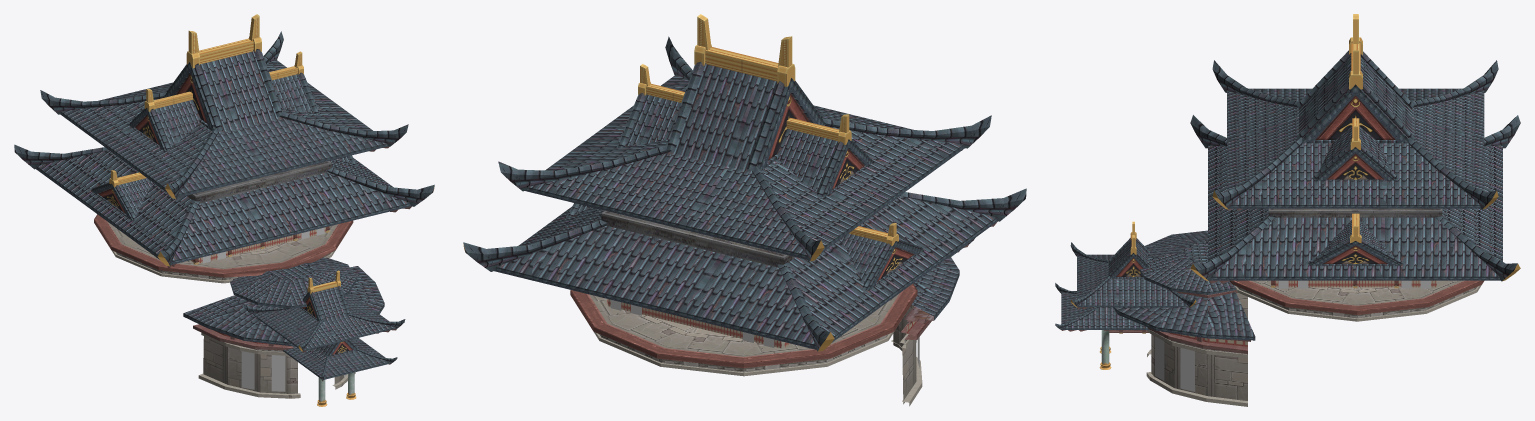
File: mod_zlc_jianzhu061_xy.FBX
The picture shows the model from 3 angles, left to right: view 1: azimuth 30°, elevation 25°; view 2: azimuth 150°, elevation 25°; view 3: azimuth 270°, elevation 25°; orthographic projection. The views are drawn at different scales.
Visible parts, largest first — view 1: mod_zlc_jianzhu061_xy; view 2: mod_zlc_jianzhu061_xy; view 3: mod_zlc_jianzhu061_xy.
Part boxes in pixels (<box>): mod_zlc_jianzhu061_xy: <box>14,14,434,406</box>; mod_zlc_jianzhu061_xy: <box>463,14,1026,406</box>; mod_zlc_jianzhu061_xy: <box>1055,14,1520,406</box>.
Bounding box in the file's own units: 9423 × 9809 × 12368.
